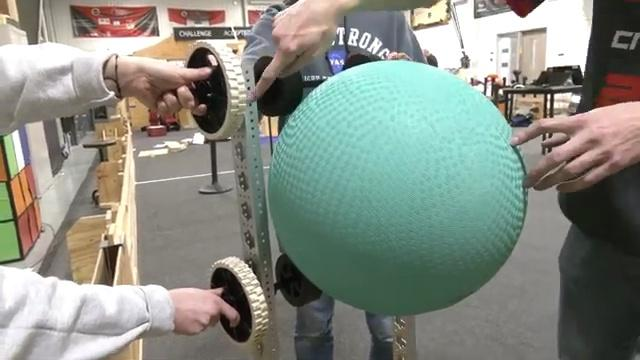ALGAE: (266, 58, 529, 316)
